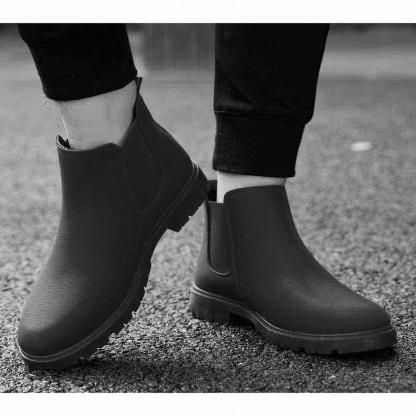ankle: (225, 247, 233, 254), (126, 155, 132, 160)
heel: (204, 286, 210, 291), (190, 162, 195, 166)
left_foot: (190, 186, 398, 355)
pinky: (364, 302, 370, 307), (26, 314, 31, 317)
right_foot: (18, 145, 201, 371)
toe: (63, 339, 70, 343), (325, 329, 328, 332)
